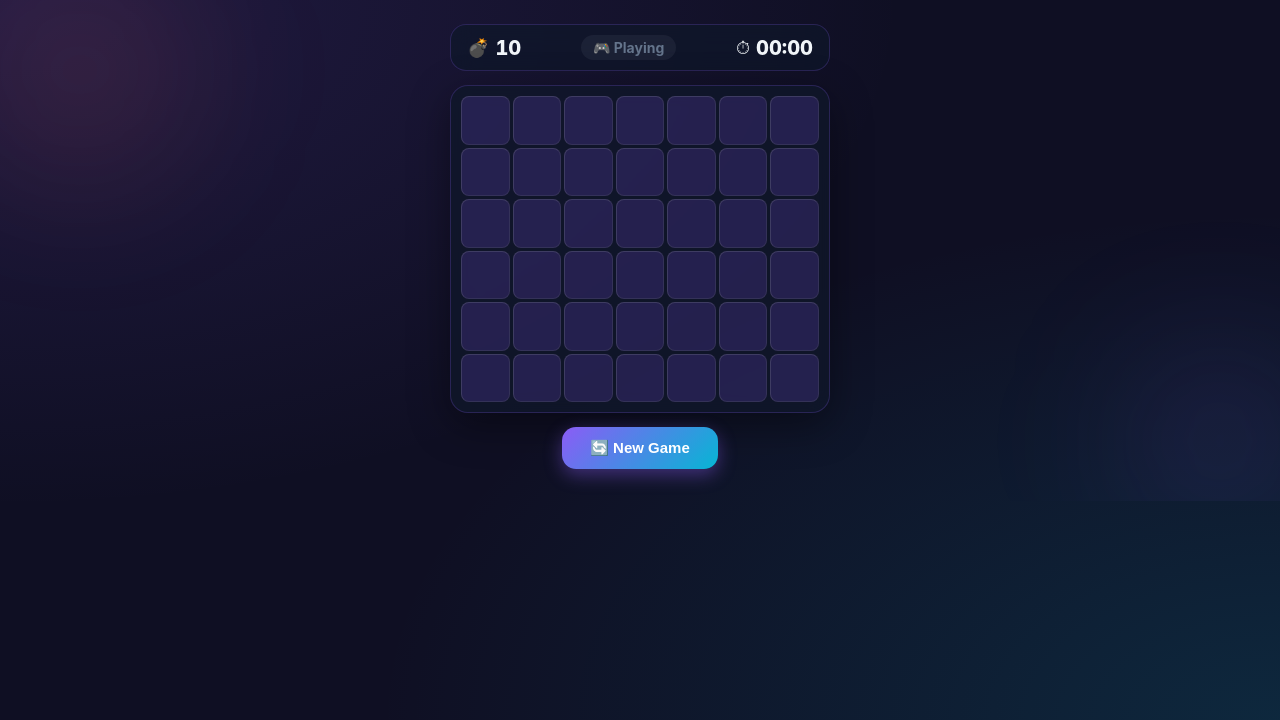
Test: Minesweeper › handles game over when clicking a mine
Click the 1st element with class "ms-cell". click: (485, 120)
box: left=461, top=96, right=510, bottom=145
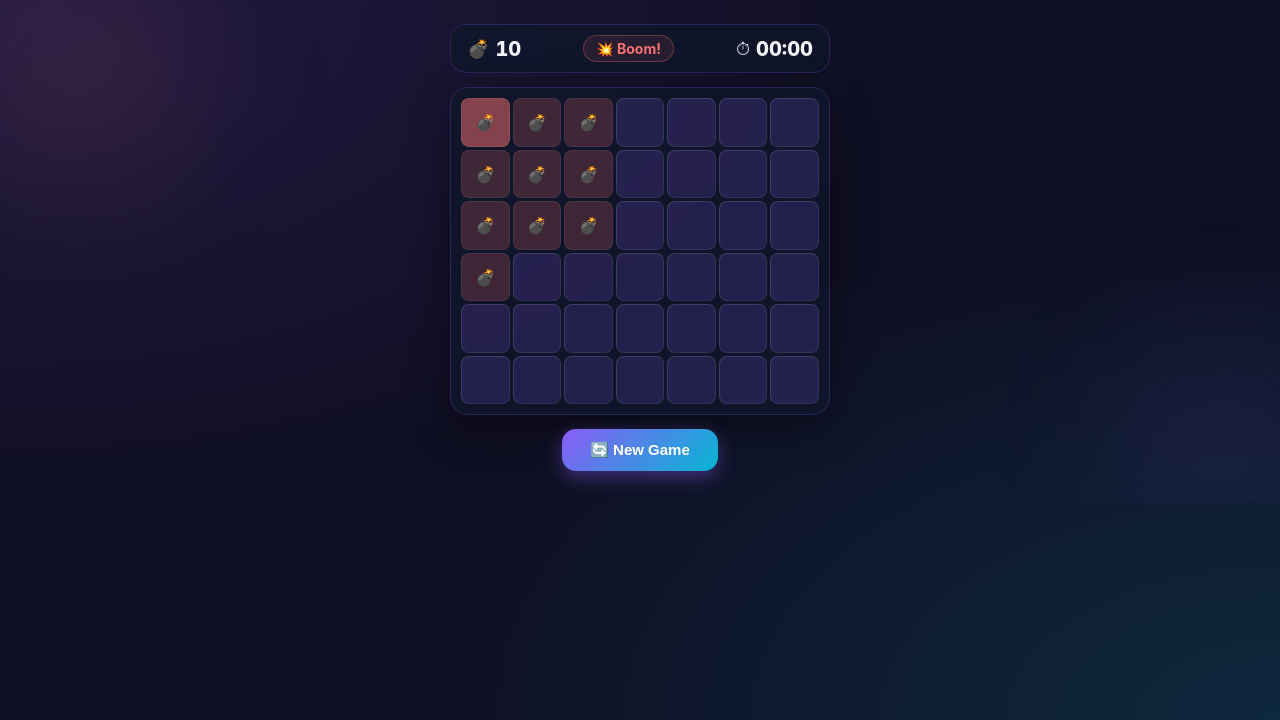
Check: the text "💥 Boom!" is shown, box left=583, top=35, right=674, bottom=62
